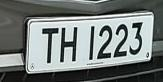1: (85, 23, 99, 65)
2: (96, 22, 115, 62), (113, 20, 129, 60)
3: (129, 17, 145, 59)
H: (58, 25, 80, 66)
T: (37, 24, 60, 68)
